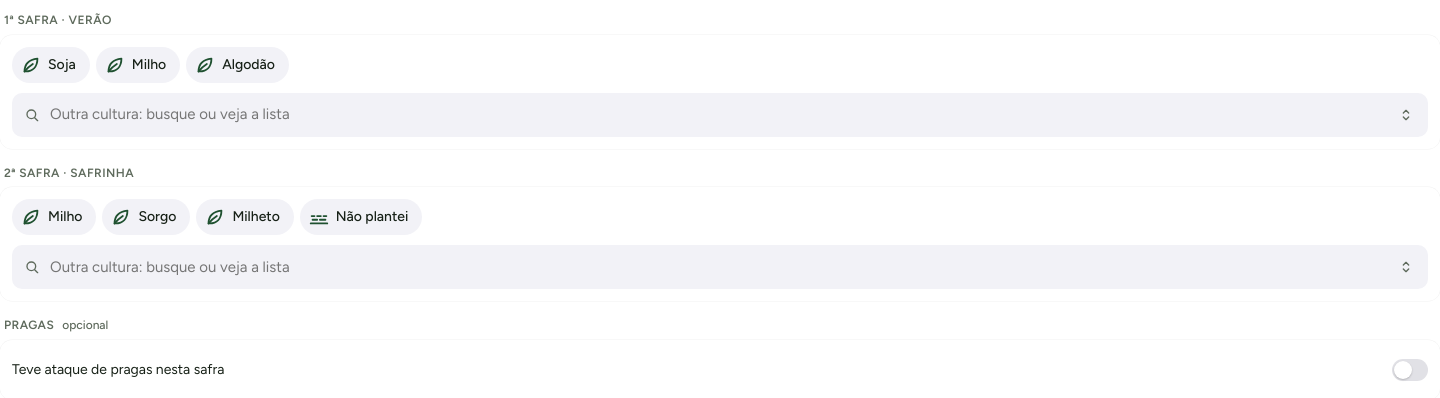
Scenario: EditorSafra › busca ignora acento
Type "feijao" into the dropdown named "Buscar cultura da 1ª safra · verão".
click(714, 115); type("feijao")  # box [48, 103, 1380, 126]
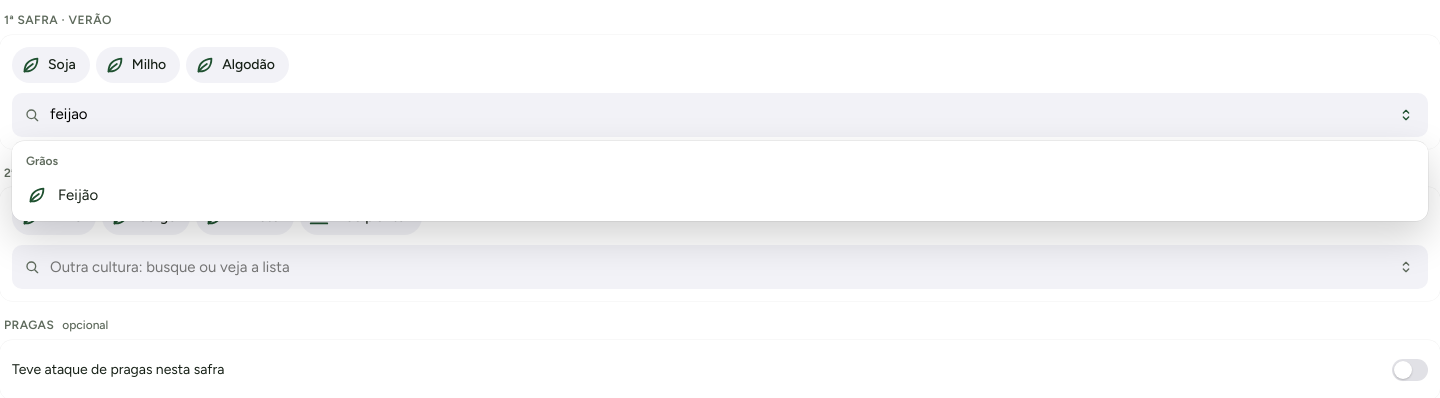
Check: the option "Feijão" is shown, box [12, 173, 1428, 217]
